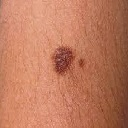Melanoma: (53, 45, 86, 76)
